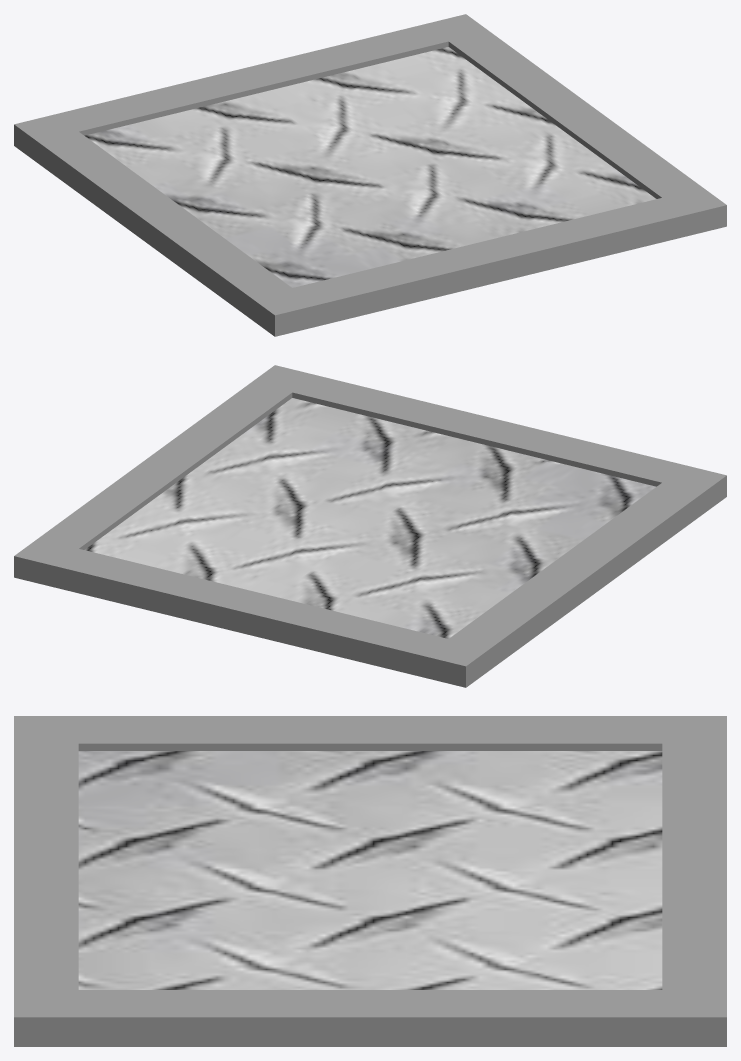
Rendered from Luik.fbx.
3 views of the same model, one above another, from view 1: azimuth 30°, elevation 25°; view 2: azimuth 150°, elevation 25°; view 3: azimuth 270°, elevation 25° (orthographic). The views are drawn at different scales.
Parts seen in each view (by area): view 1: pCube1, pCube4, pCube3, pCube5, pCube2; view 2: pCube1, pCube5, pCube3, pCube4, pCube2; view 3: pCube1, pCube2, pCube3, pCube4, pCube5.
Part boxes in pixels (bbox=[...]): pCube1: bbox=[84, 47, 655, 287]; pCube4: bbox=[251, 188, 726, 336]; pCube3: bbox=[14, 115, 315, 336]; pCube5: bbox=[14, 14, 487, 157]; pCube2: bbox=[425, 14, 726, 236]; pCube1: bbox=[85, 398, 656, 638]; pCube5: bbox=[14, 540, 489, 686]; pCube3: bbox=[425, 466, 726, 687]; pCube4: bbox=[253, 365, 726, 513]; pCube2: bbox=[14, 365, 315, 587]; pCube1: bbox=[78, 751, 662, 989]; pCube2: bbox=[14, 990, 726, 1046]; pCube3: bbox=[14, 716, 726, 750]; pCube4: bbox=[14, 716, 78, 1046]; pCube5: bbox=[662, 716, 726, 1046].
Size of the model in its own units: 11 by 0.5 by 11.
2 materials, 1 textured.
